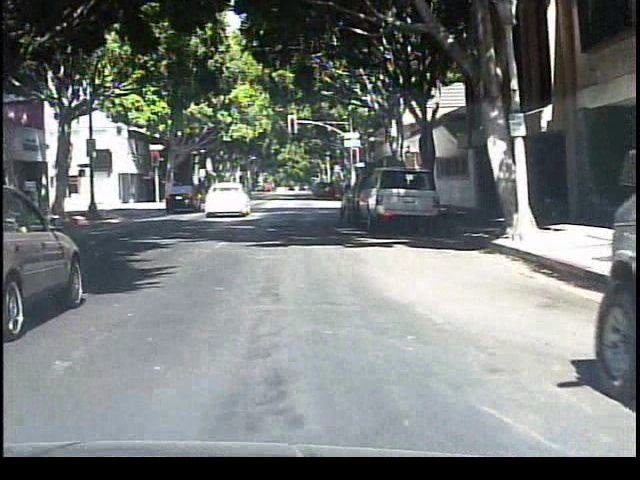person: (200, 170, 224, 212)
